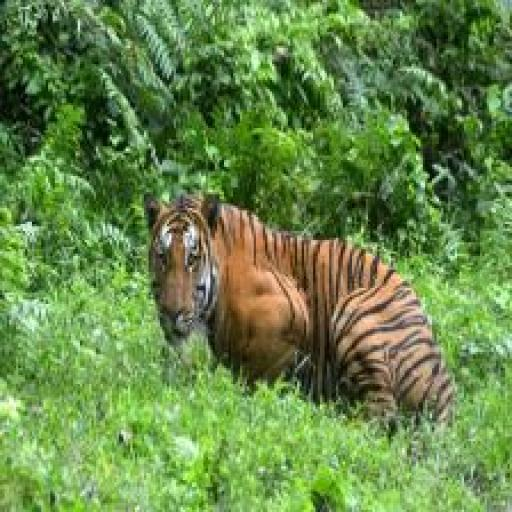Tiger: (119, 171, 489, 504)
